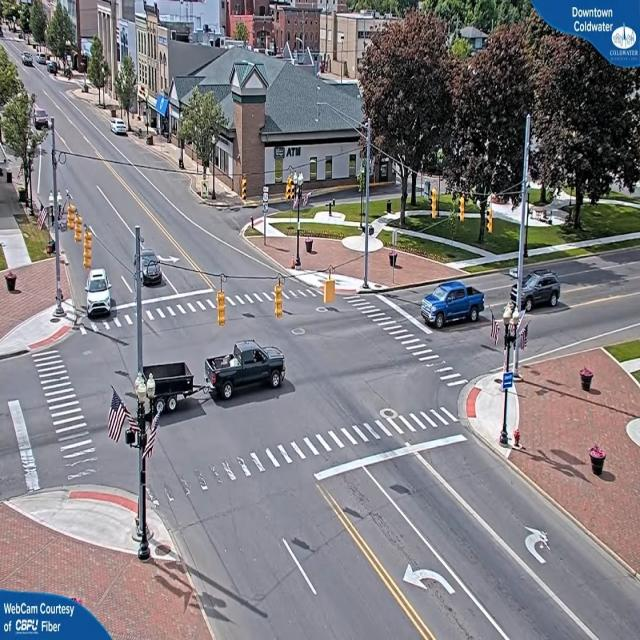car: (208, 337, 288, 401), (421, 280, 486, 328), (526, 266, 564, 310), (86, 266, 114, 318), (112, 121, 130, 138)
